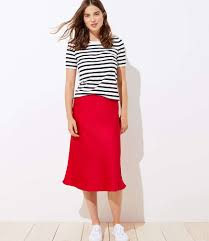C_skirt: (56, 90, 129, 199)
